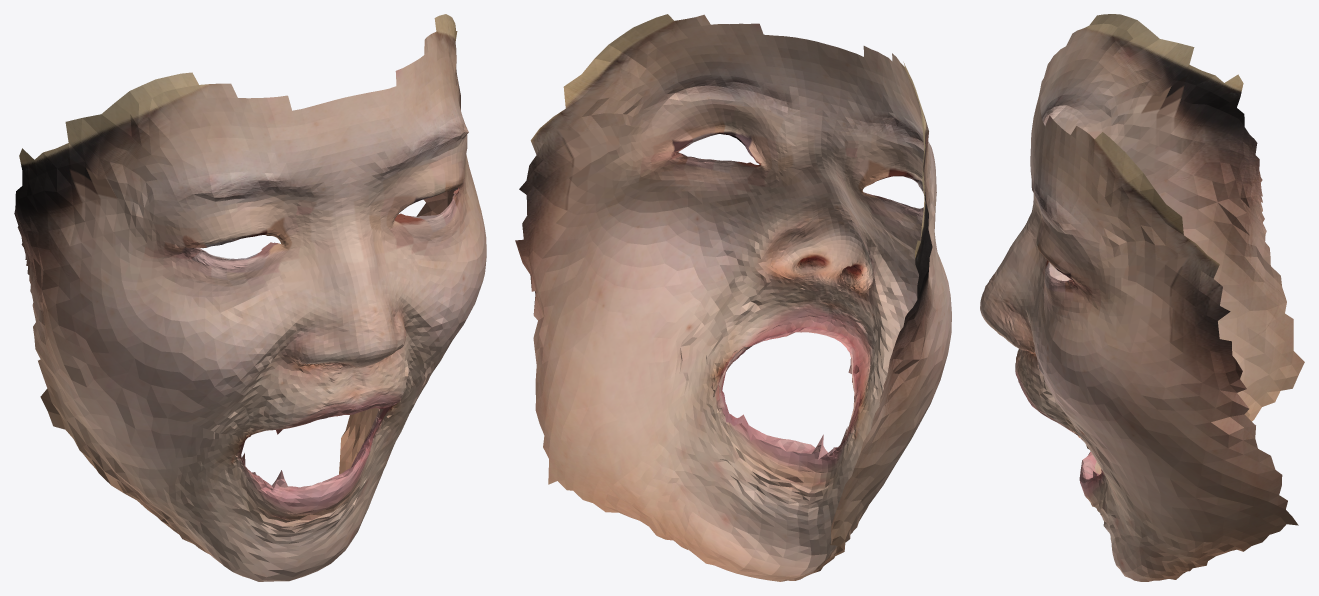
The model's file is 3_mouth_stretch.obj.
3 renders of one model, left to right at view 1: azimuth 30°, elevation 25°; view 2: azimuth 150°, elevation 25°; view 3: azimuth 270°, elevation 25°, orthographic. The views are drawn at different scales.
Bounding box in the file's own units: 172 × 210 × 123.
1 material, 1 textured.
